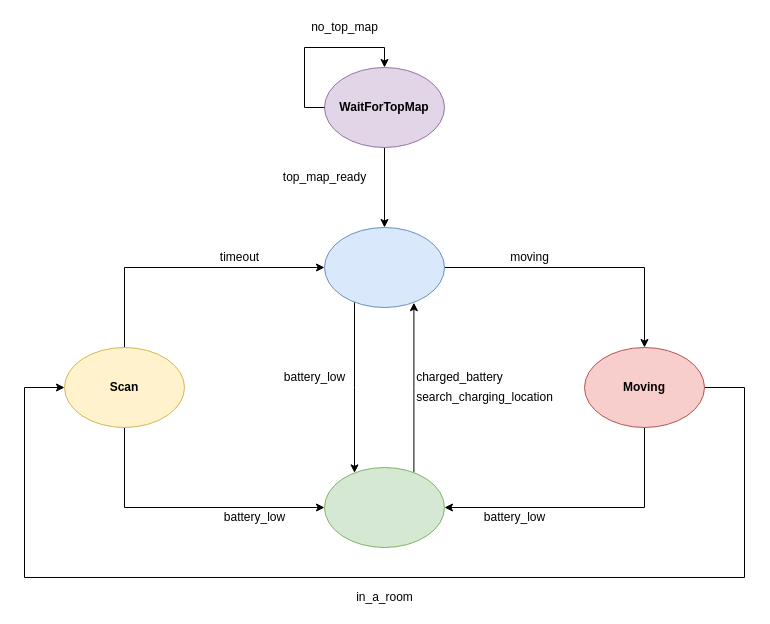
This 770x624 diagram has some shape labels left out. The centre of each missing label's shape, as x and y in pixels:
"Planning" goes at pixel 384 267.
"Recharging" goes at pixel 384 507.
